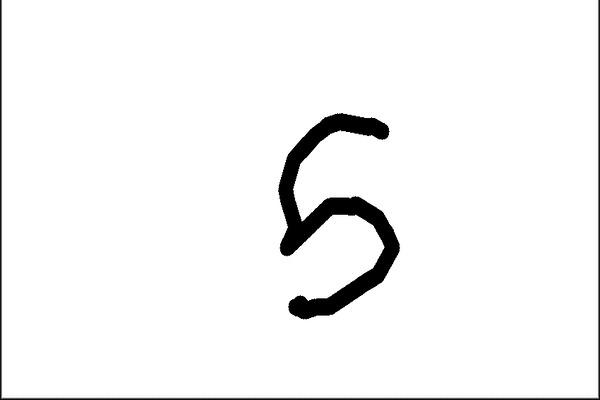S: (272, 106, 404, 326)
